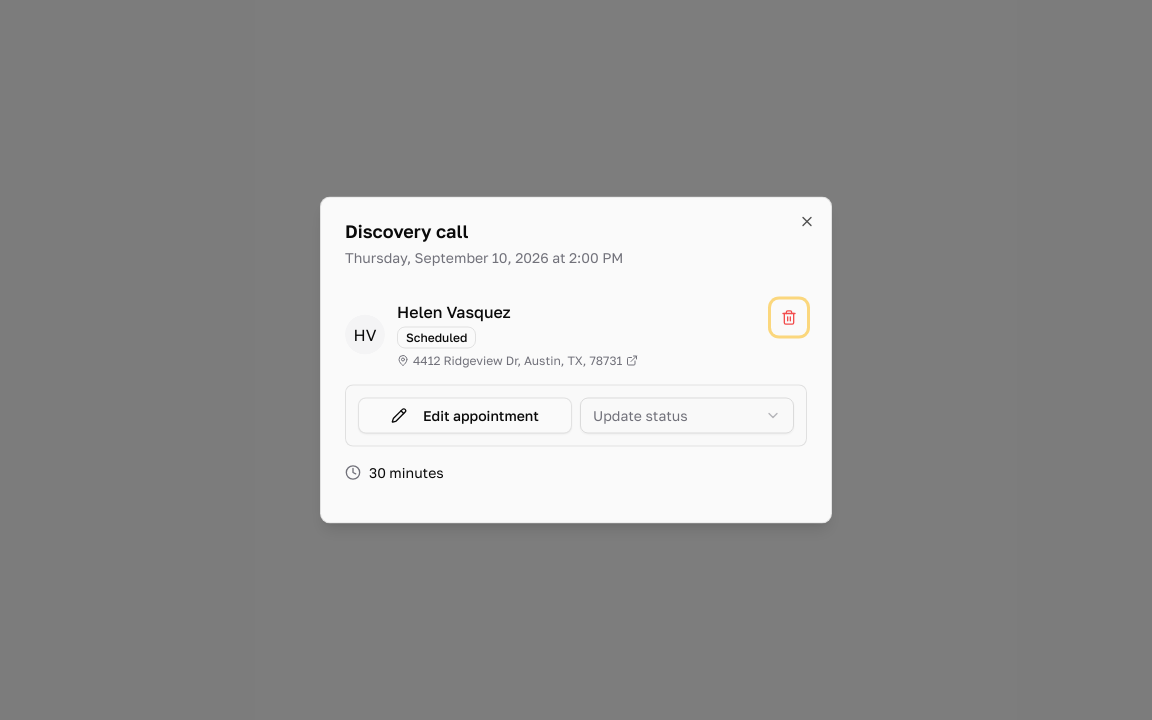
it: AppointmentDetailsDialog › offers the requested statuses and marks a show
The width and height of the screenshot is (1152, 720).
Click the dropdown named "Update appointment status" at (687, 416), box [580,398,794,434]
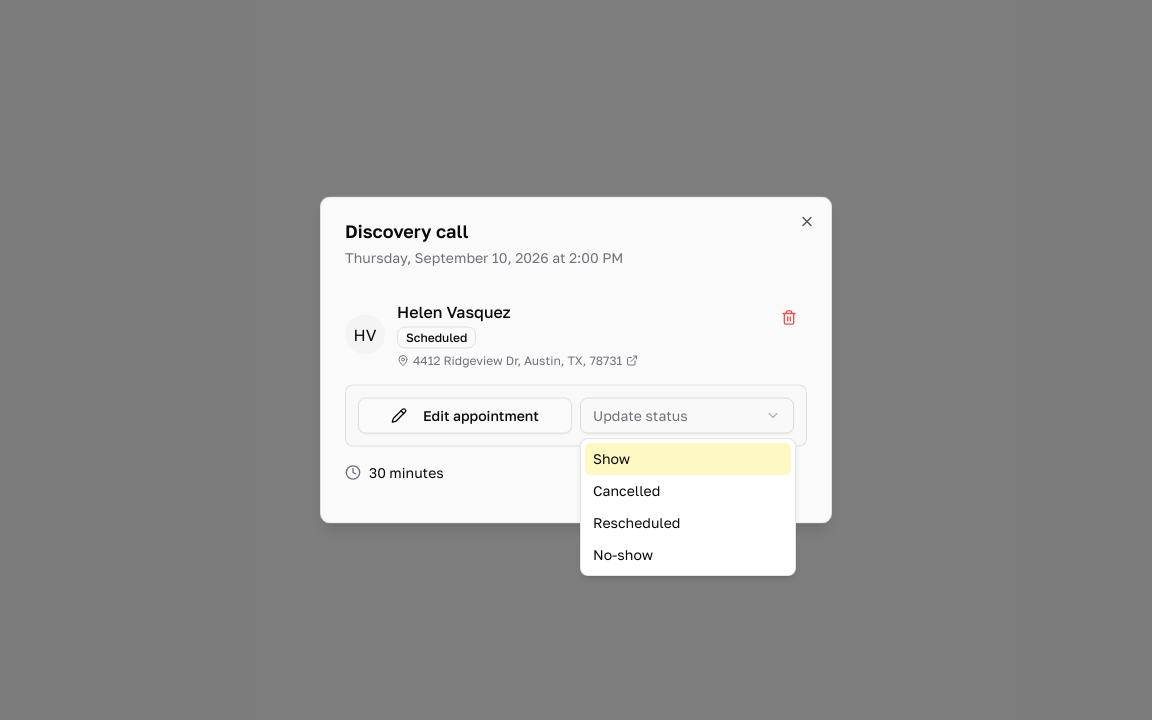
Now the option "Show" is shown
Now the option "Cancelled" is shown, box [593,482,660,499]
Now the option "Rescheduled" is shown, box [593,514,680,531]
Click the option "Show" at (688, 459), box [585,443,791,475]
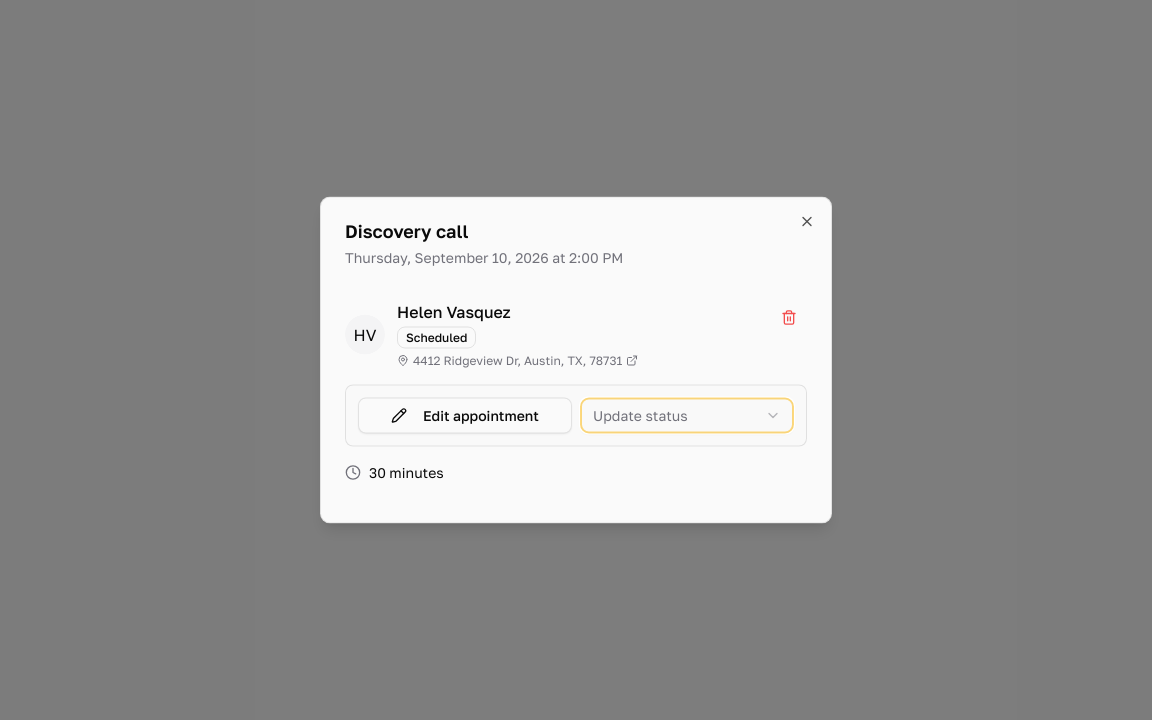
Click the dropdown named "Update appointment status" at (687, 416), box [580,398,794,434]
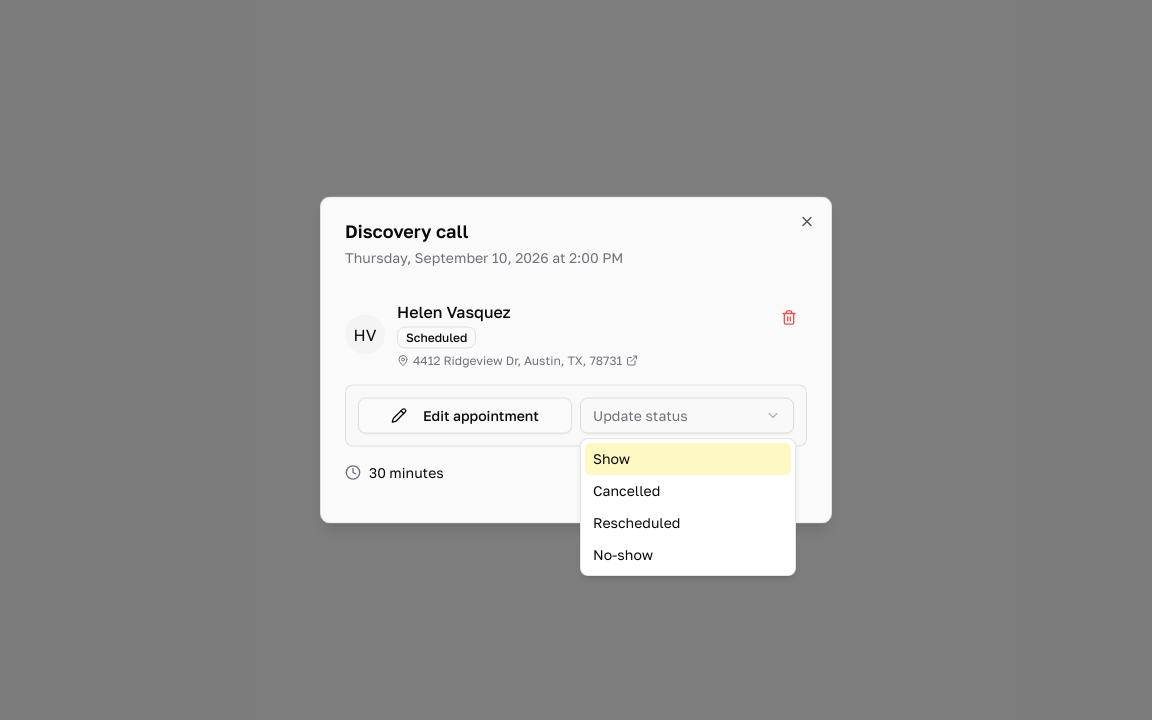
Click the option "Rescheduled" at (637, 522), box [593,514,680,531]
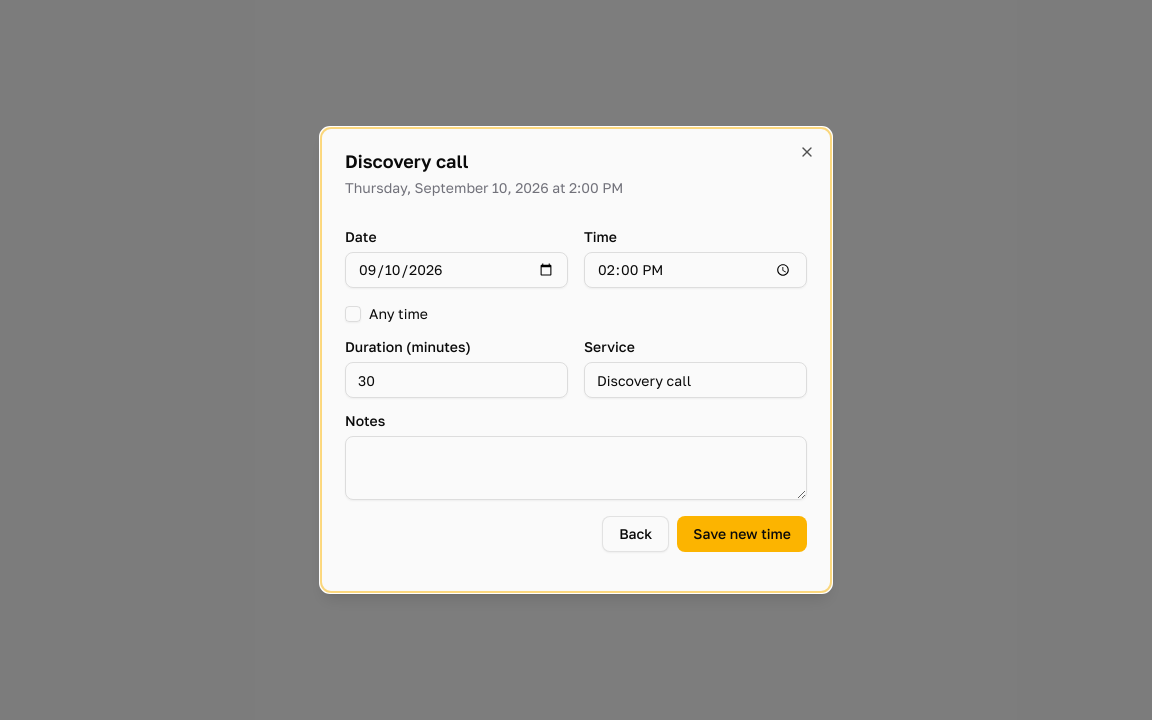
Now the button "Save new time" is shown, box [677,516,807,552]
